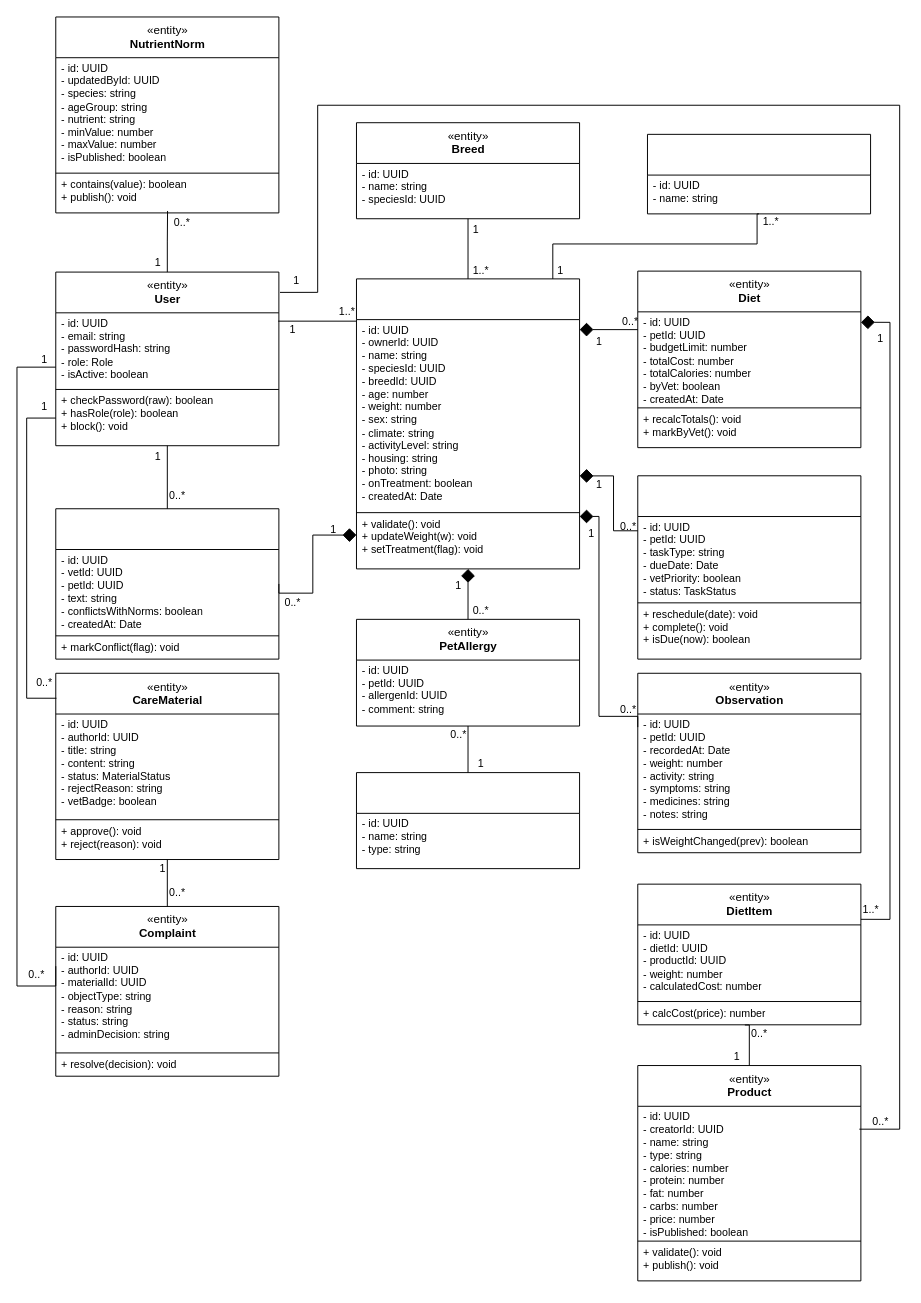
This 921x1303 diagram has some shape labels left out. The shapes that lost their labels are listed below. From the top down, each one's box as (x1, y1, x2, y2) in pixels, then its label:
(647, 133, 871, 214): «entity» Species
(356, 278, 580, 569): «entity» Pet
(55, 508, 279, 659): «entity» VetRecommendation
(637, 475, 861, 659): «entity» CareTask
(356, 772, 580, 869): «entity» Allergen
